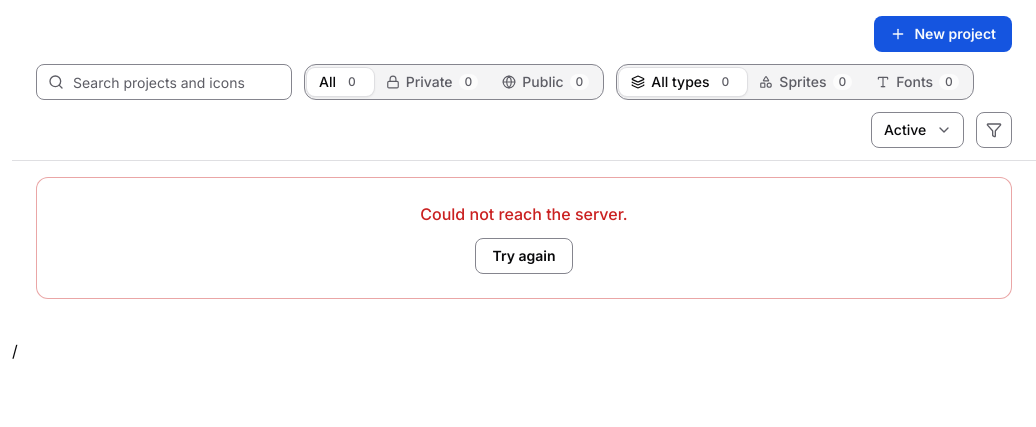
listing › shows an error with a retry that loads again
Expected: the message shows "Could not reach the server.", [420,204,628,224]
Click the button "Try again": (524, 256) [476,238,573,274]
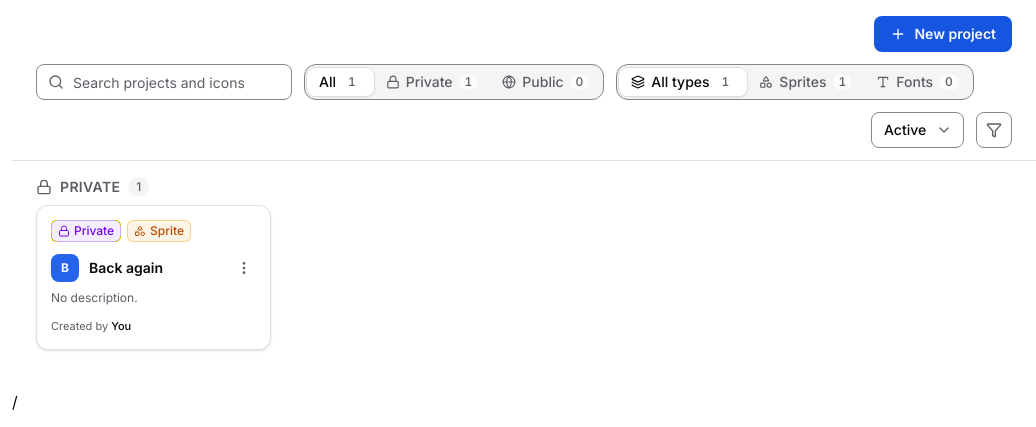
Now the heading "Back again" is shown, box [89,259,163,276]
